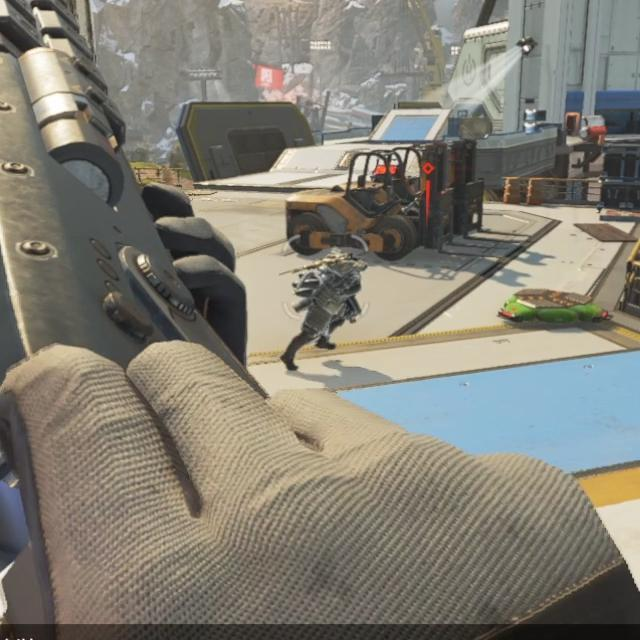avatar: (278, 249, 364, 375)
